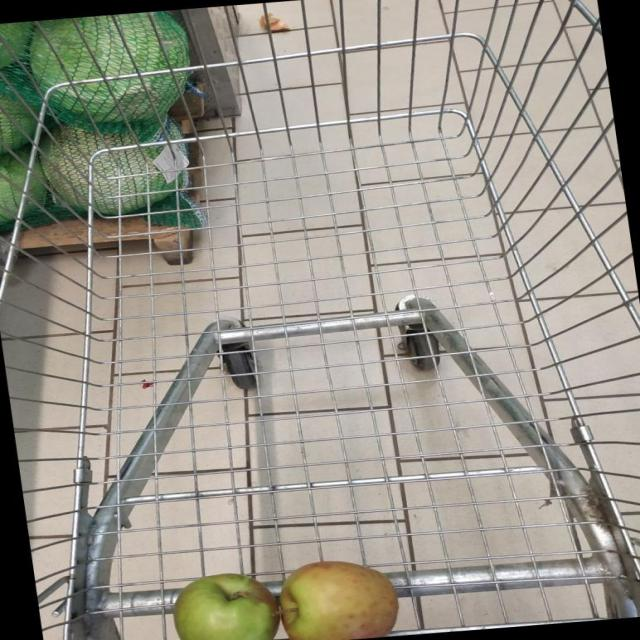Apple: (280, 561, 398, 640), (173, 573, 281, 640)
